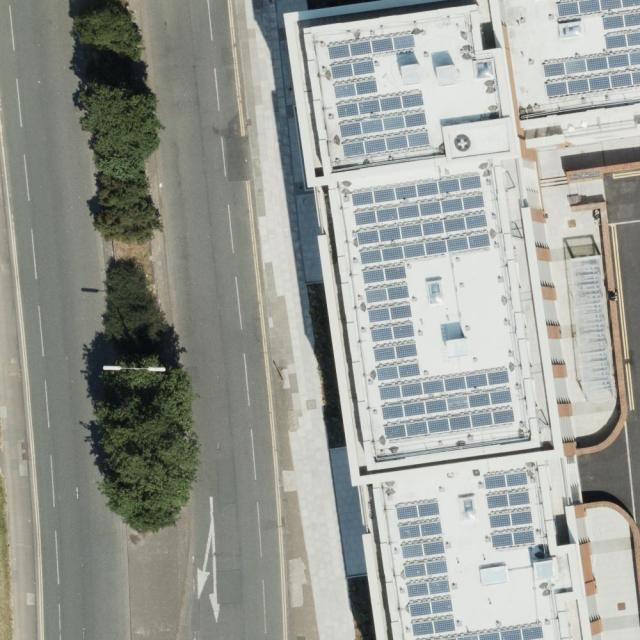roof: (283, 0, 640, 640)
skylight: (458, 494, 479, 524), (426, 277, 445, 307), (472, 58, 494, 81), (557, 21, 585, 39)
solar: (350, 173, 516, 441), (394, 499, 545, 640), (327, 34, 431, 159), (543, 0, 640, 97), (483, 468, 536, 550)
